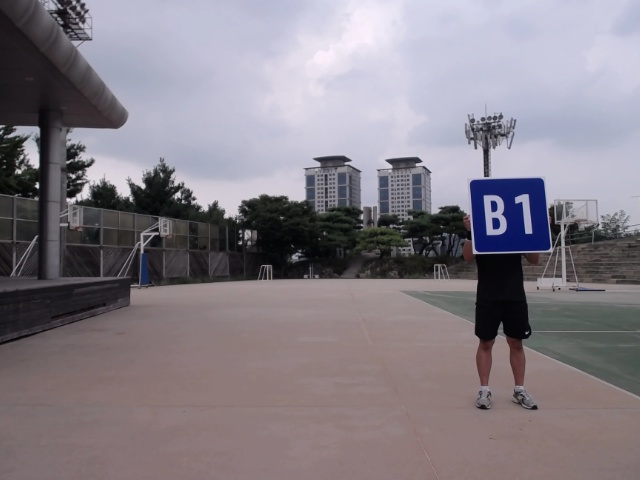delivery_b1: (468, 177, 553, 254)
